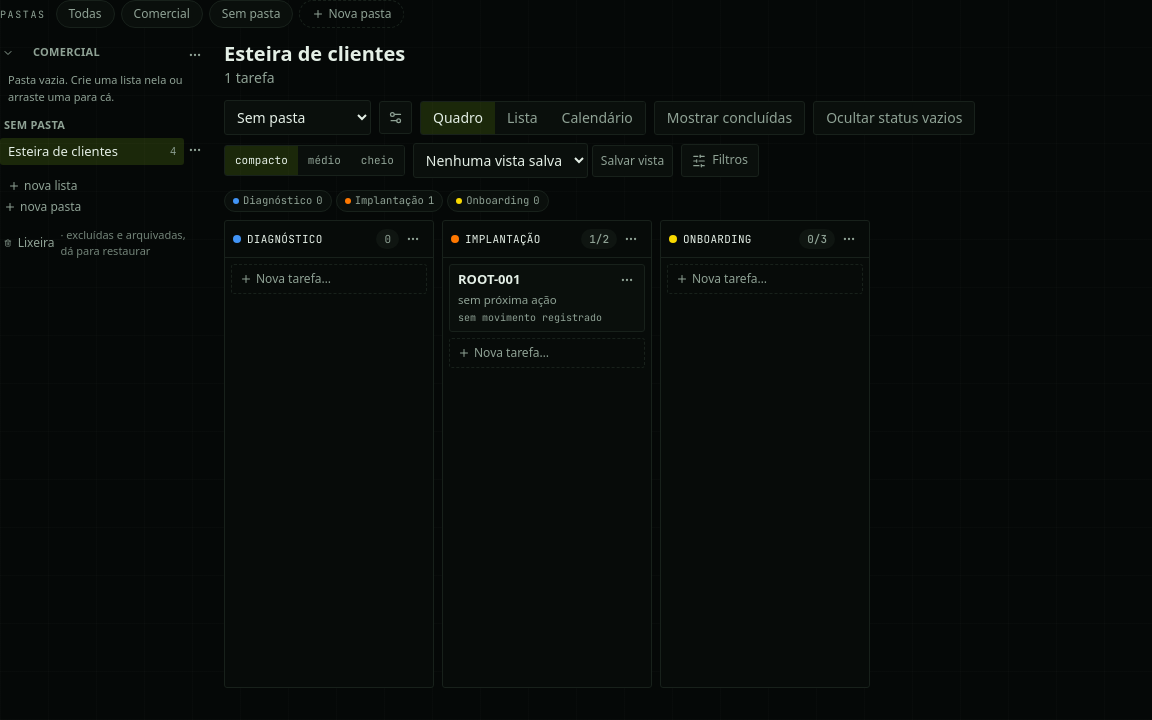
Test: trabalho importado: card único e material preservado › mantém o foco no painel e devolve ao card quando Escape fecha
Step 1. Click the button "ROOT-001" → coordinates (489, 280), box [458,271,520,289]
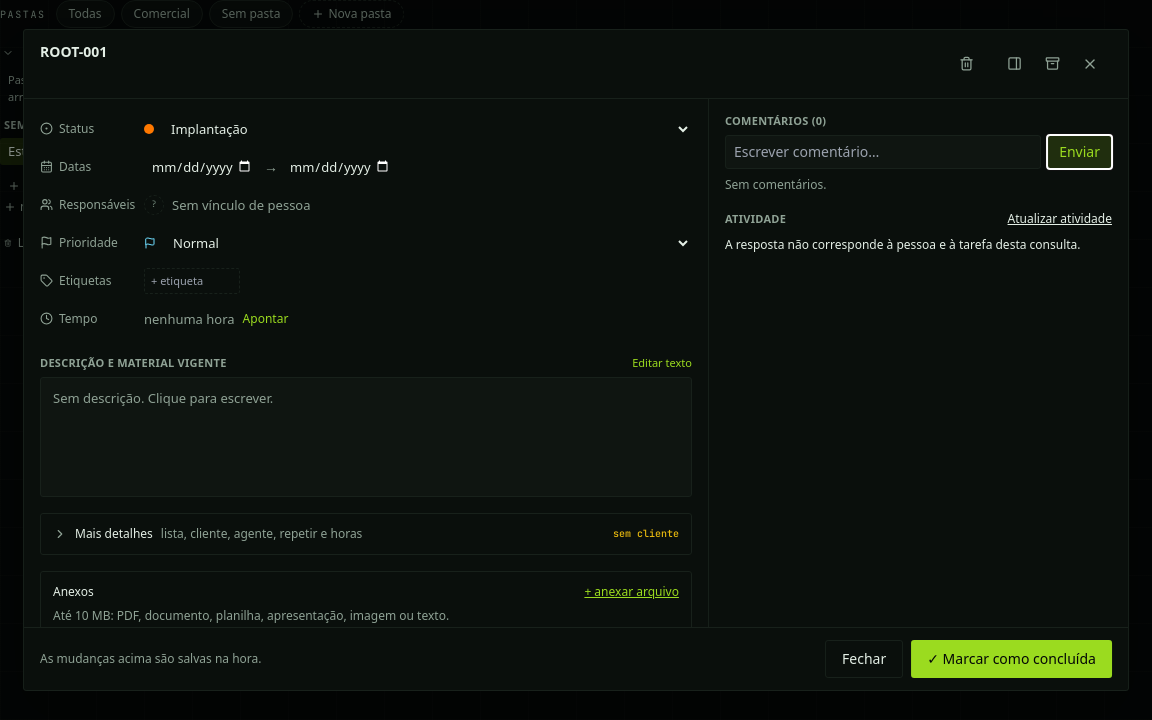
Step 2. Press Tab
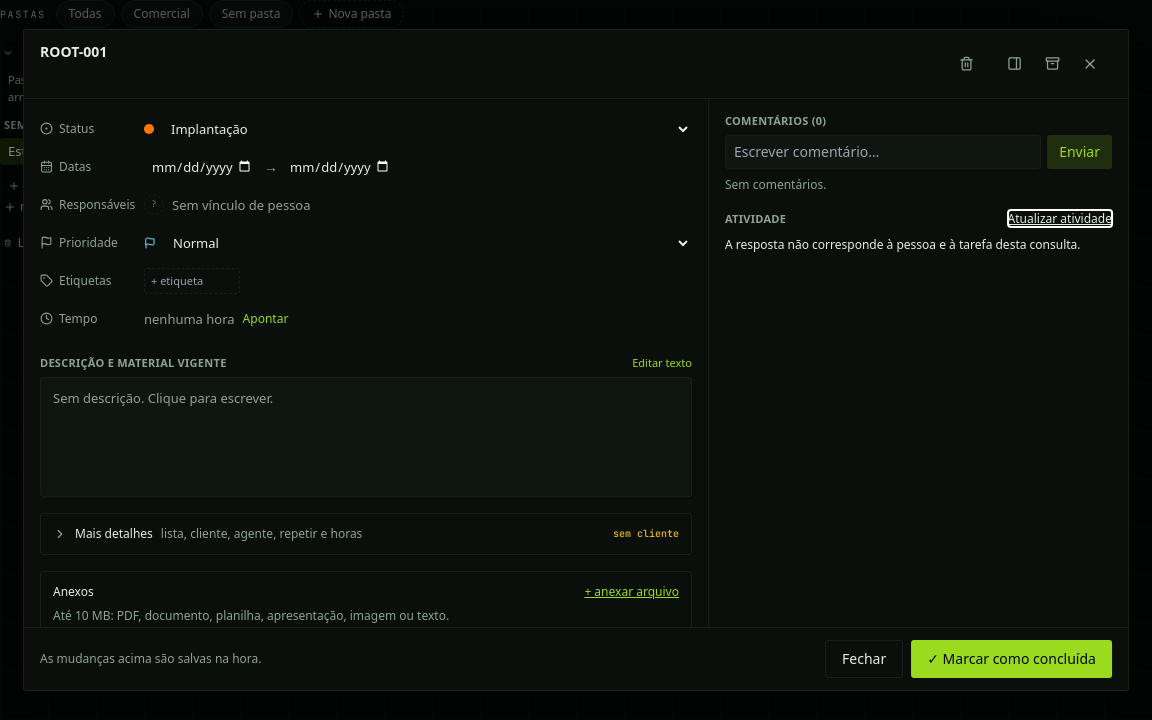
Step 3. Press Escape
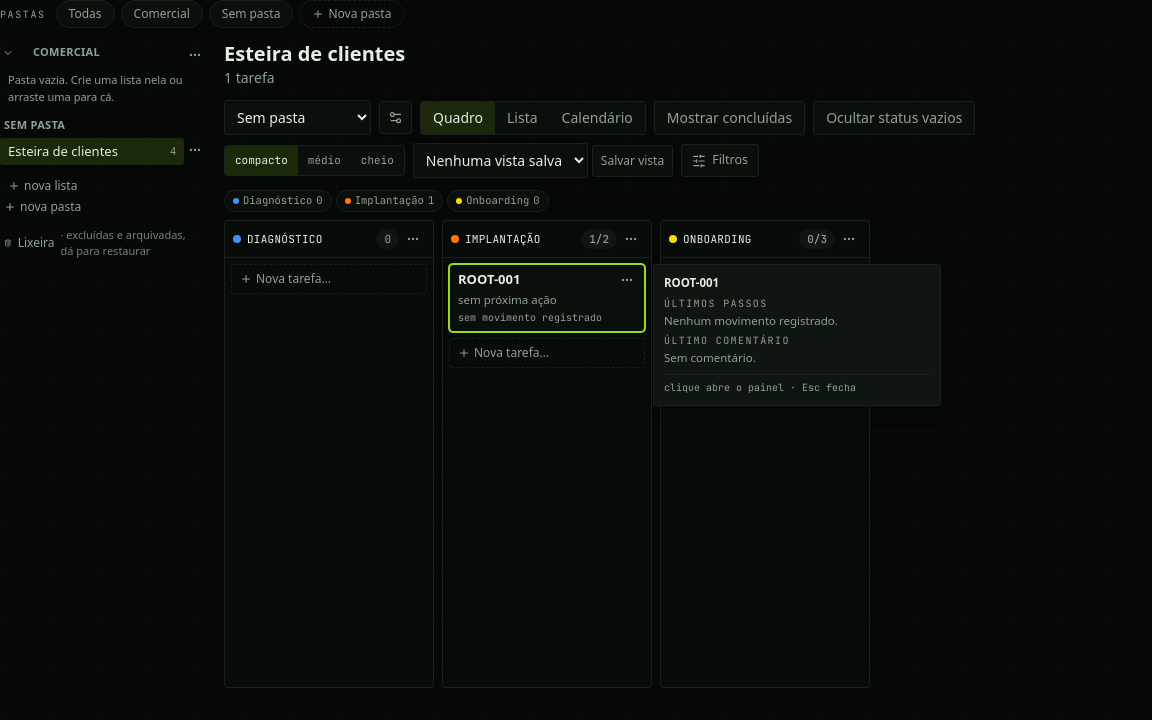
Check: the dialog is gone
